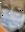with_mask: (1, 1, 25, 32)
